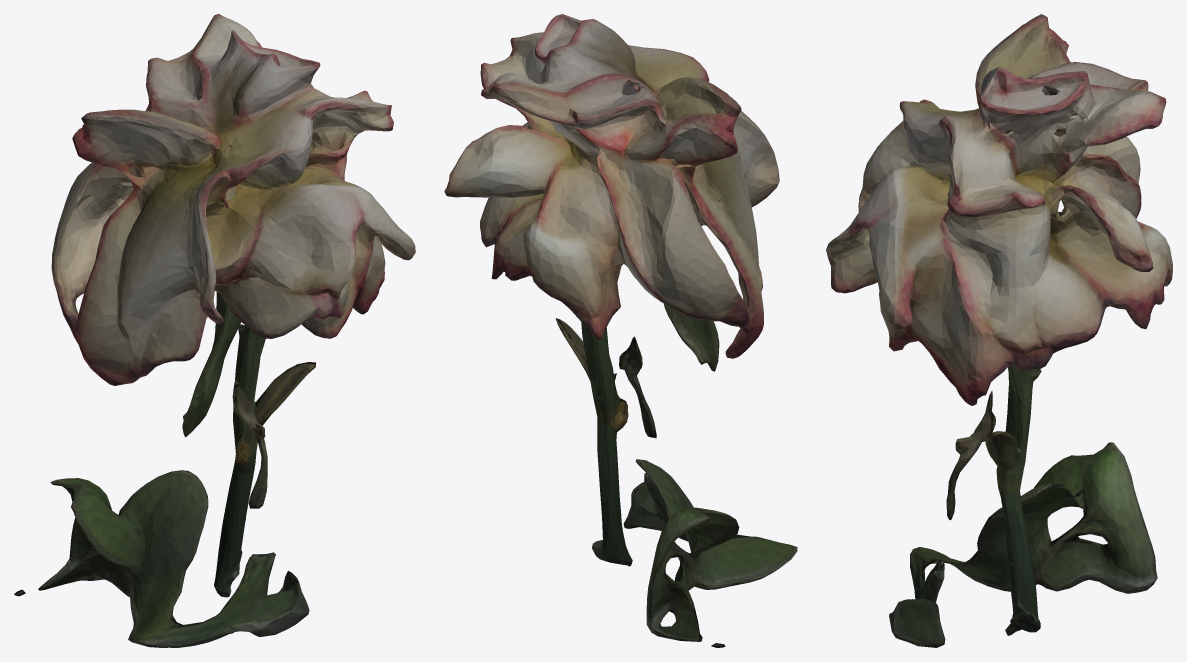
The picture shows the model from 3 angles, left to right: view 1: azimuth 30°, elevation 25°; view 2: azimuth 150°, elevation 25°; view 3: azimuth 270°, elevation 25°; orthographic projection. The views are drawn at different scales.
Visible parts, largest first — view 1: world; view 2: world; view 3: world.
Boxes of the visible parts, x1=… form: world: x1=14, y1=14, x2=415, y2=647; world: x1=444, y1=14, x2=797, y2=647; world: x1=826, y1=14, x2=1172, y2=647.
Bounding box in the file's own units: 0.5832 × 1 × 0.5311.
Materials: 1 (1 with a texture image).
